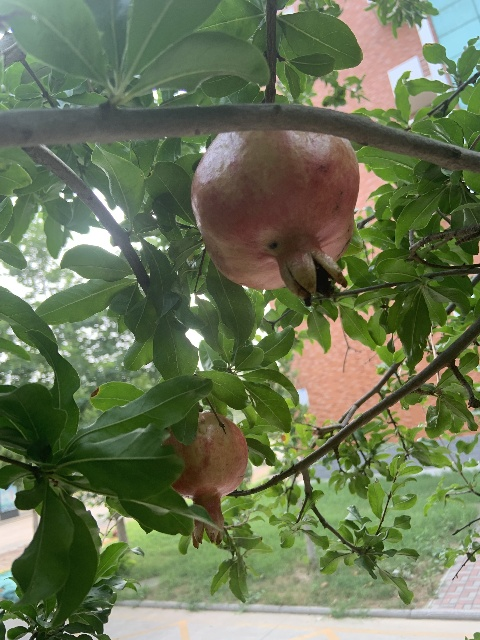ripe: (191, 130, 359, 298), (162, 410, 247, 548)
